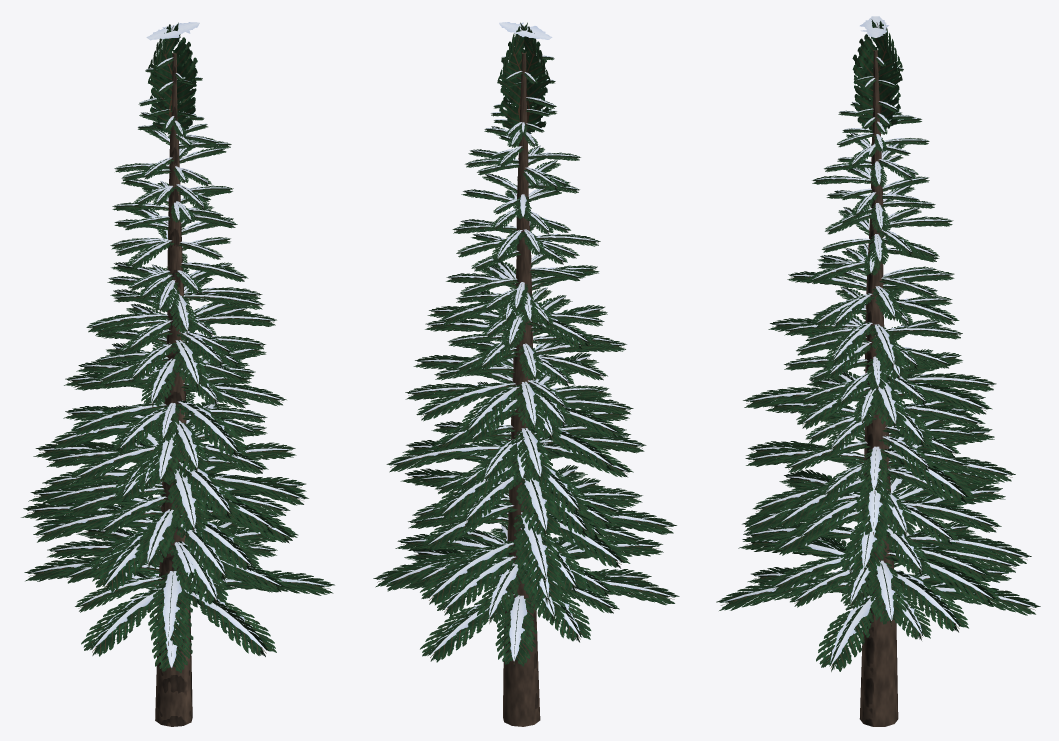
File: SM_Snow_GiantFir_A.glb
3 views of the same model, side by side, from view 1: azimuth 30°, elevation 25°; view 2: azimuth 150°, elevation 25°; view 3: azimuth 270°, elevation 25° (orthographic).
Visible parts, largest first — view 1: SM_Snow_GiantFir_A; view 2: SM_Snow_GiantFir_A; view 3: SM_Snow_GiantFir_A.
Boxes of the visible parts, x1,y1,x2,y2 form: SM_Snow_GiantFir_A: (21,22,334,726); SM_Snow_GiantFir_A: (373,22,679,726); SM_Snow_GiantFir_A: (716,16,1040,726).
Bounding box in the file's own units: 4.73 × 11.5 × 4.96.
3 materials, 3 textured.
